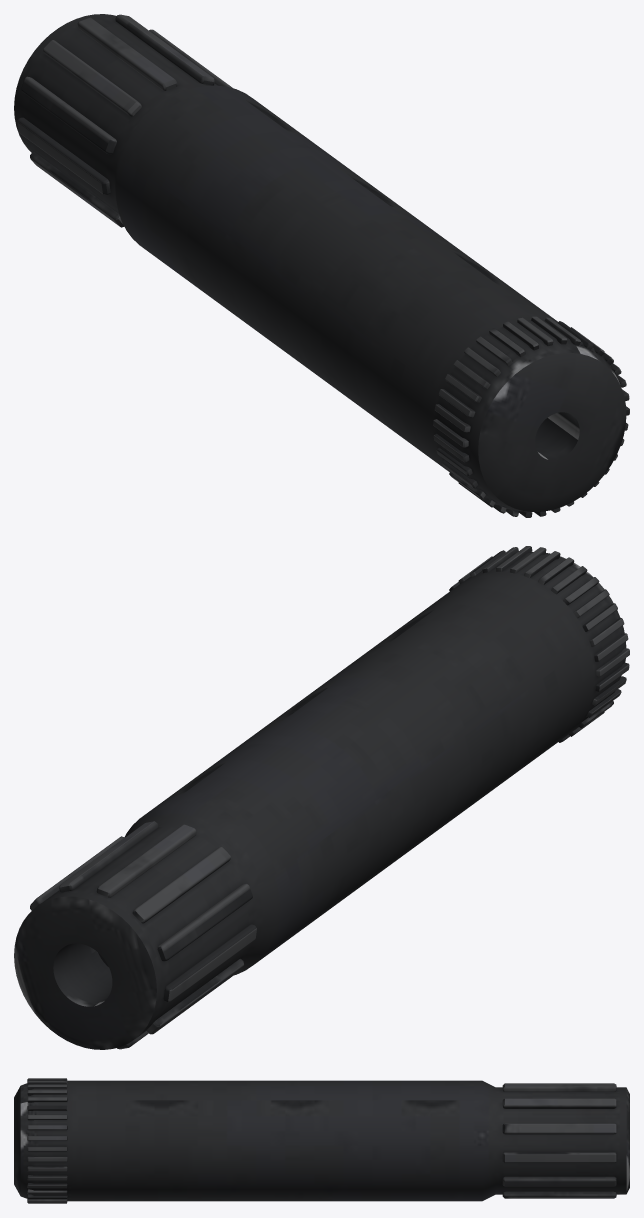
File: muzzle_suppressor_smg.glb
The picture shows the model from 3 angles, top to bottom: view 1: azimuth 30°, elevation 25°; view 2: azimuth 150°, elevation 25°; view 3: azimuth 270°, elevation 25°; orthographic projection. The views are drawn at different scales.
Visible parts, largest first — view 1: body; view 2: body; view 3: body.
Boxes of the visible parts, x1=… form: body: x1=14, y1=14, x2=629, y2=517; body: x1=14, y1=546, x2=629, y2=1049; body: x1=14, y1=1078, x2=629, y2=1203.
Bounding box in the file's own units: 0.0374 × 0.0374 × 0.184.
1 material, 1 textured.
